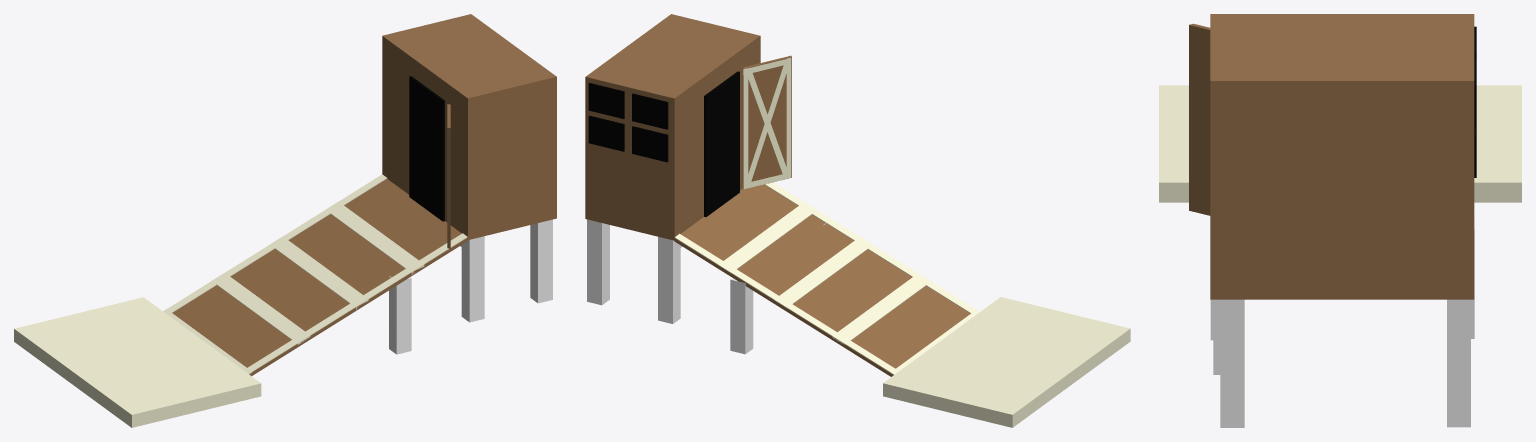
Rendered from CoopHouse.fbx.
3 views of the same model, side by side, from view 1: azimuth 30°, elevation 25°; view 2: azimuth 150°, elevation 25°; view 3: azimuth 270°, elevation 25° (orthographic). The views are drawn at different scales.
Visible parts, largest first — view 1: CoopHouse, Ramp__1_, Base, InsideCoop, Support__2_, Support__5_, Edge__0_, Support__0_, Edge__5_, Edge__1_, Edge__2_, Edge__4_ (+1 smaller); view 2: CoopHouse, Ramp__1_, Base, InsideCoop, Door, Support__3_, Support__4_, Support__1_, Edge__0_, Edge__1_, Edge__2_, Edge__4_ (+9 smaller); view 3: CoopHouse, Base, Door, Support__5_, Support__4_, Support__2_.
Boxes of the visible parts, x1,y1,x2,y2 form: CoopHouse: (382,14,556,239); Ramp__1_: (172,179,467,376); Base: (14,297,261,427); InsideCoop: (409,76,444,221); Support__2_: (461,236,484,322); Support__5_: (530,219,552,303); Edge__0_: (325,201,424,274); Support__0_: (389,276,411,354); Edge__5_: (243,233,467,372); Edge__1_: (272,236,368,309); Edge__2_: (212,274,310,344); Edge__4_: (163,174,387,312); CoopHouse: (585,14,760,240); Ramp__1_: (674,184,970,376); Base: (883,297,1130,427); InsideCoop: (704,71,739,217); Door: (743,55,791,189); Support__3_: (658,236,680,323); Support__4_: (587,219,609,305); Support__1_: (730,278,753,354); Edge__0_: (718,202,816,273); Edge__1_: (774,237,872,307); Edge__2_: (832,273,929,344); Edge__4_: (674,233,897,374); CoopHouse: (1210,14,1474,299); Base: (1159,85,1521,202); Door: (1189,23,1210,215); Support__5_: (1220,299,1244,427); Support__4_: (1447,299,1470,427); Support__2_: (1213,299,1220,374).
Size of the model in its own units: 595 by 308 by 275.
